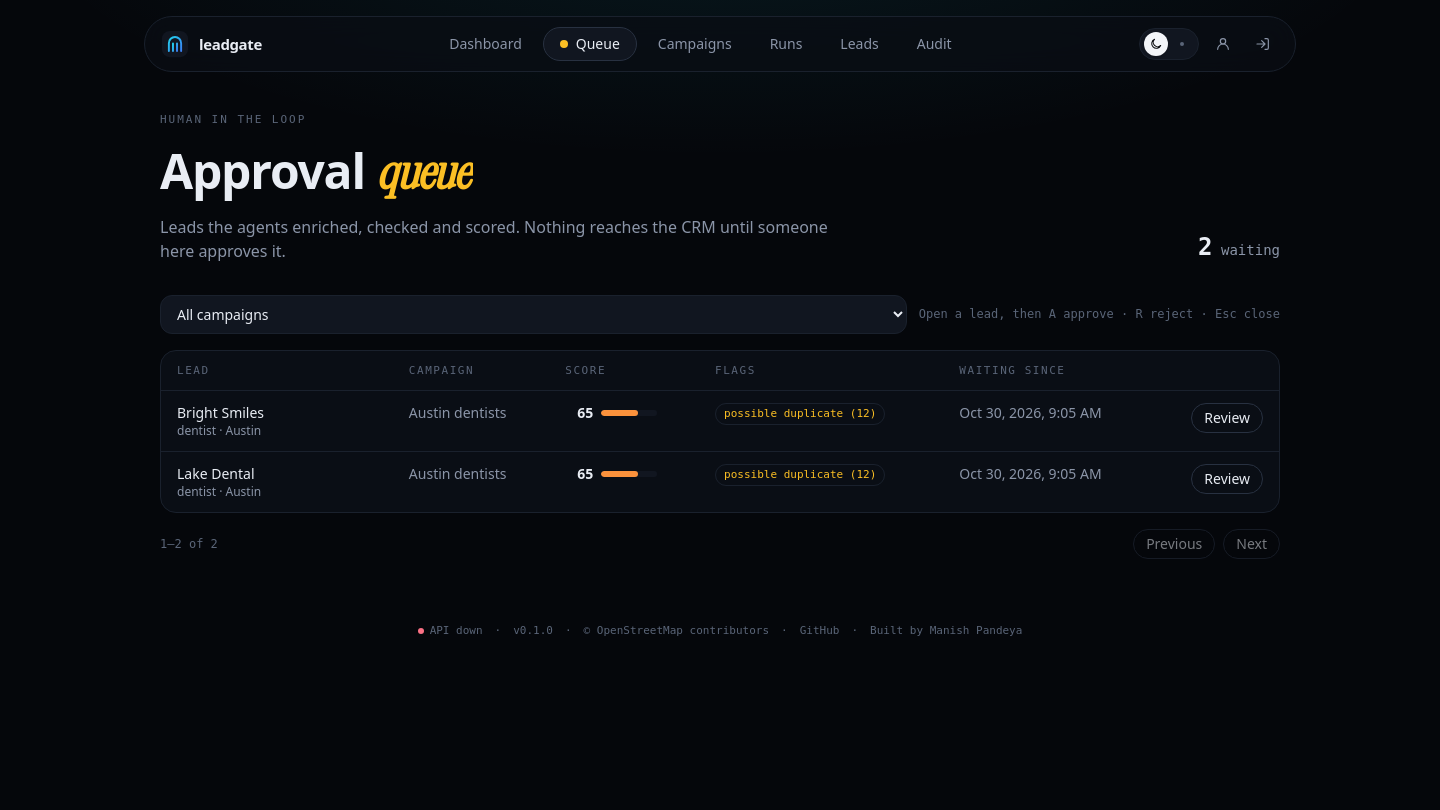
QueuePage › says so when someone else decided first
Click the text "Bright Smiles".
click(221, 413)  # box [177,403,264,422]
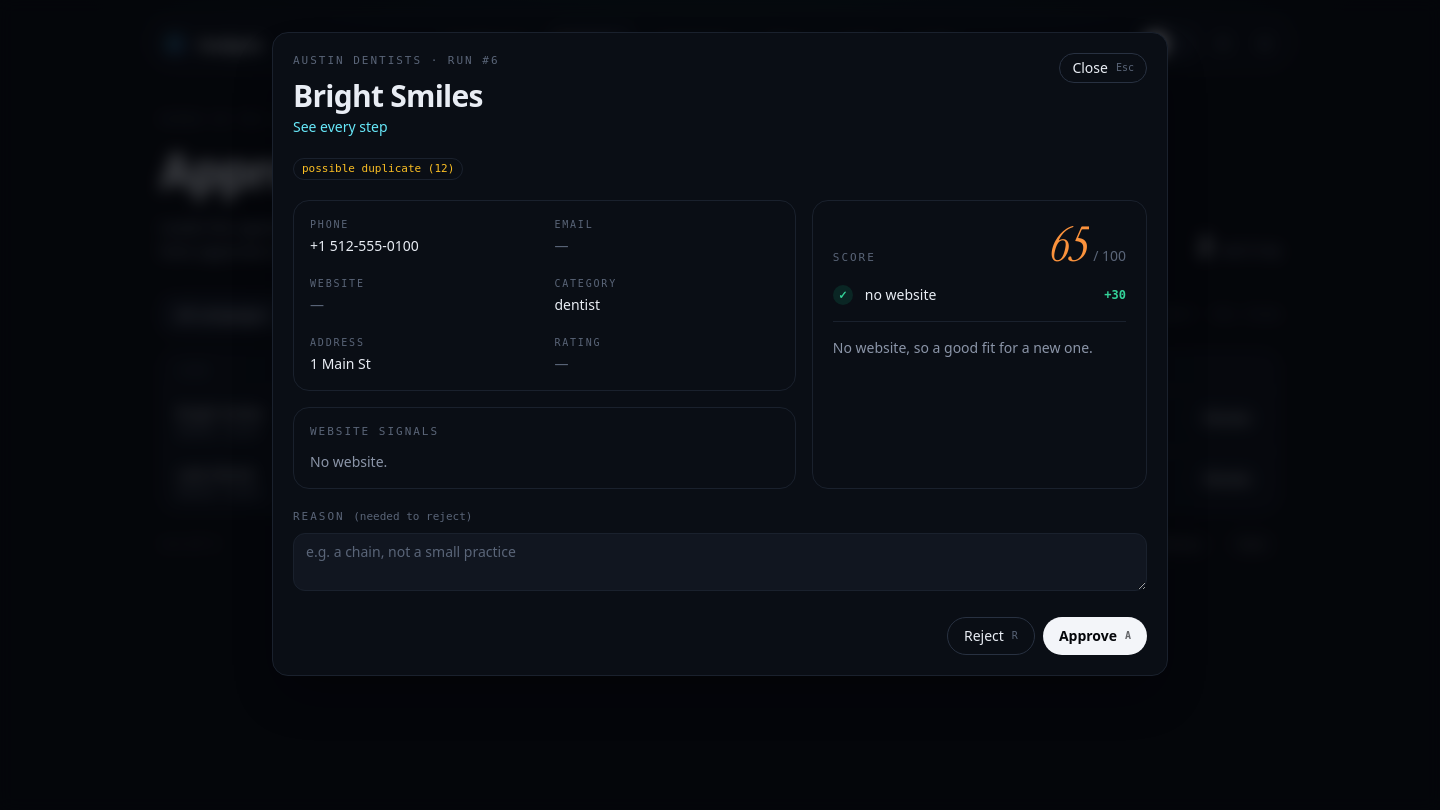
Click the button "Approve A".
click(1095, 636)  # box [1043,617,1147,655]
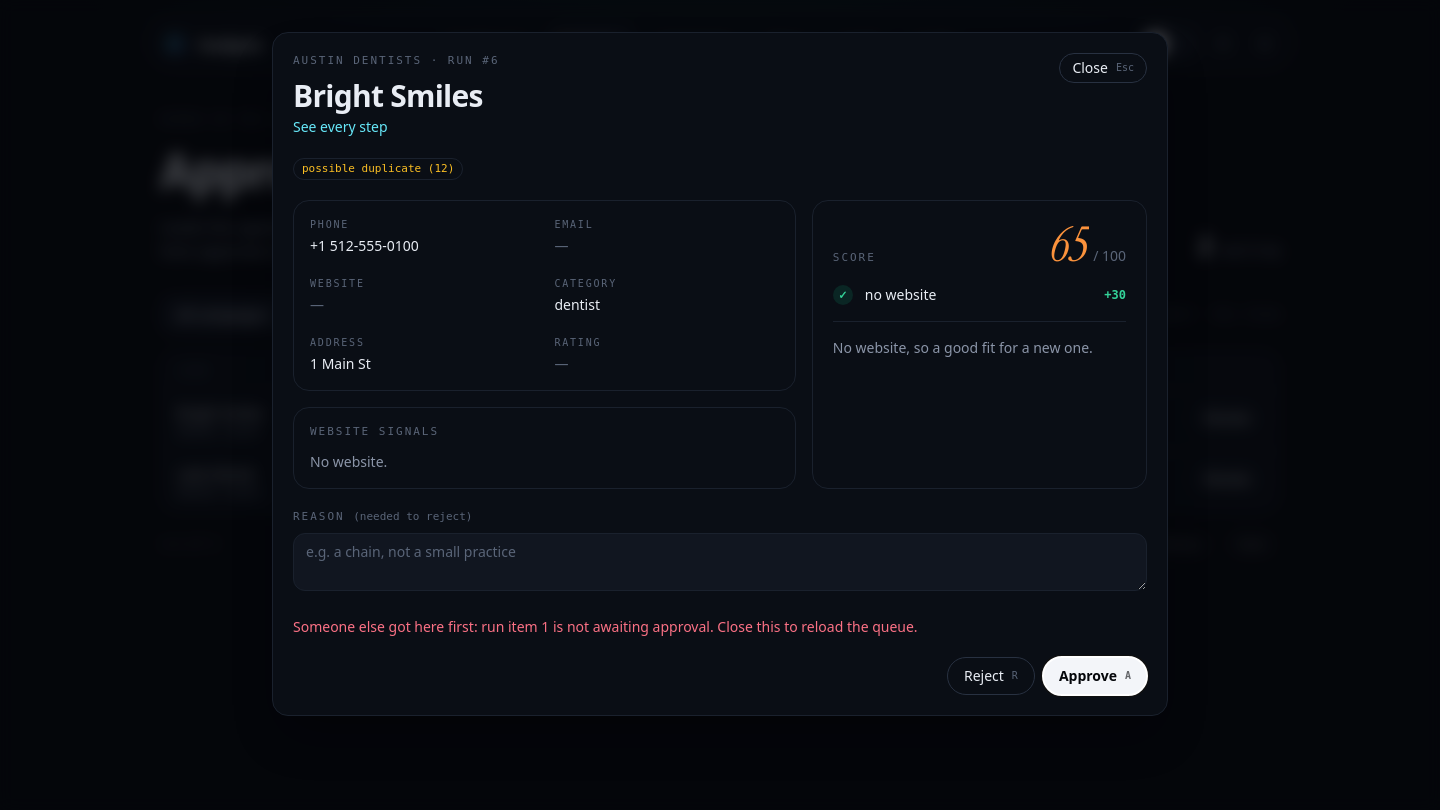
Now the message shows "Someone else got here first: run item 1 is not awaiting approval", box [293,617,918,636]
Press Escape
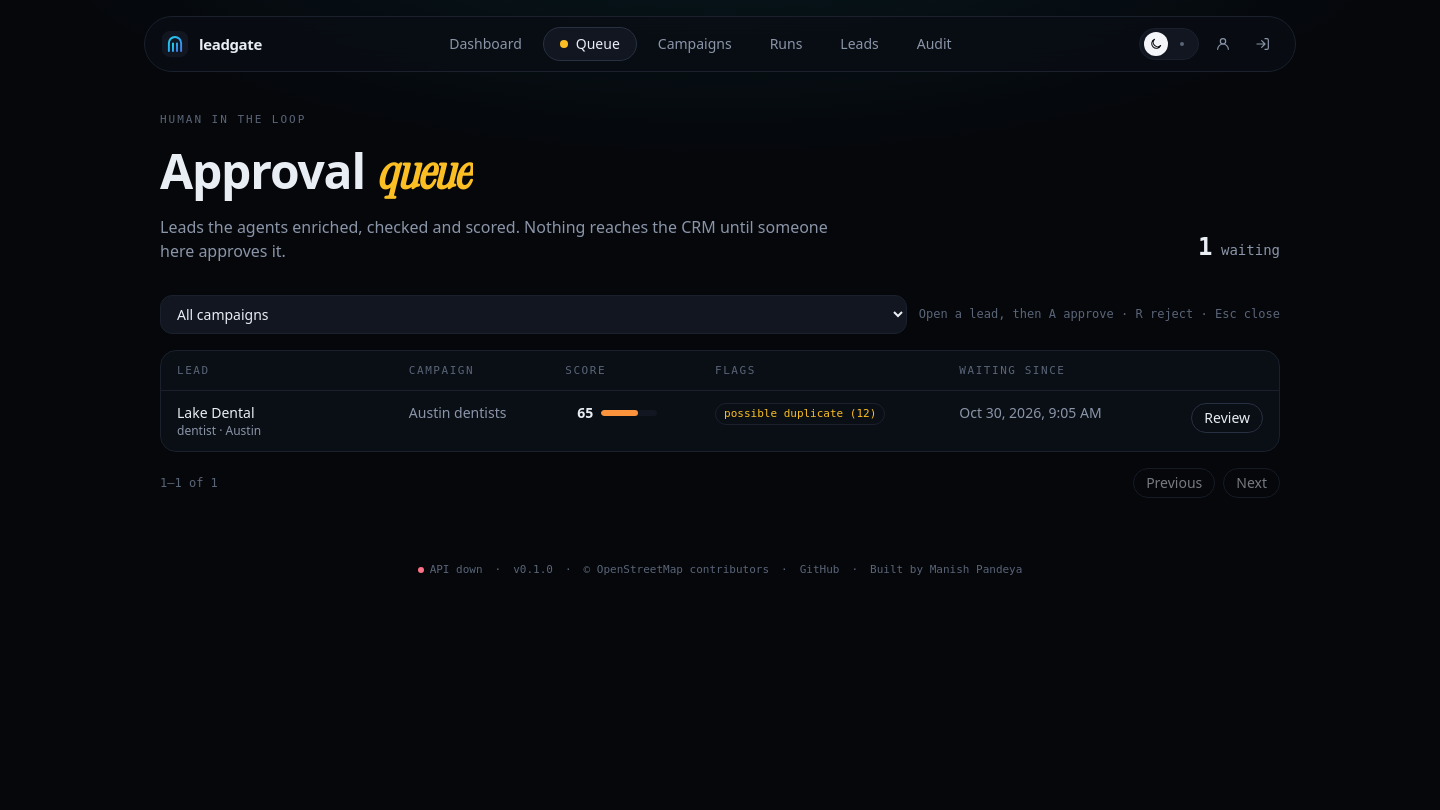
Expected: the text "Lake Dental" is shown, [177,403,254,422]
Now the text "Bright Smiles" is gone
